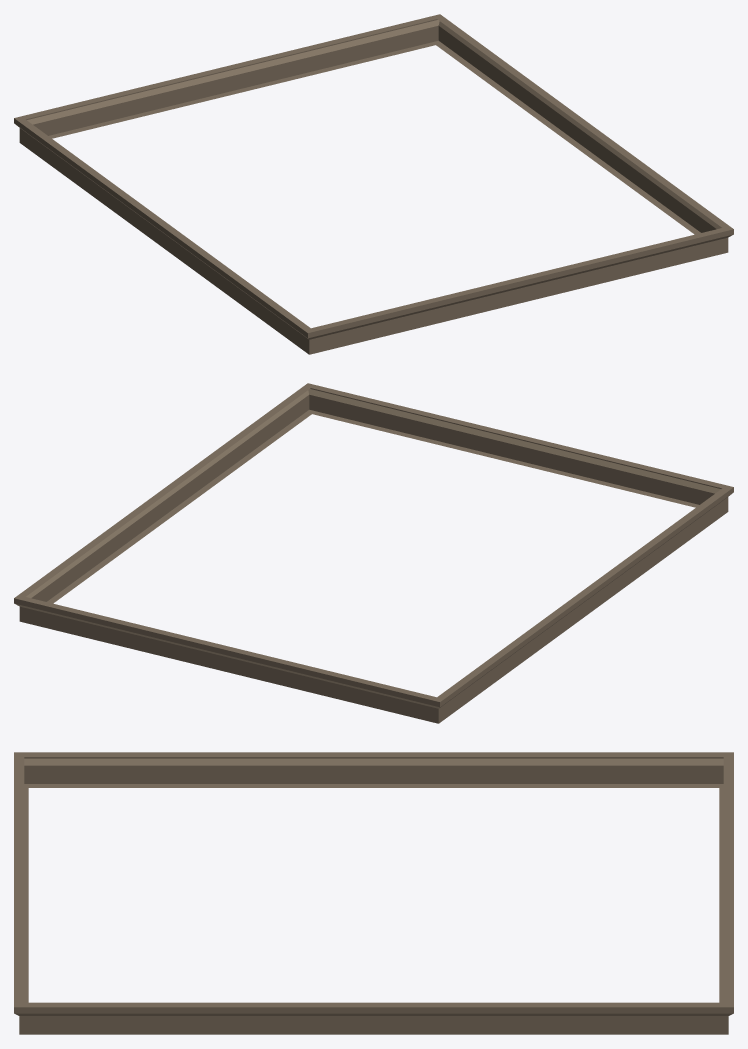
Rendered from SM_Bldg_City_Apartment_T1_Cornice_03.fbx.
3 views of the same model, one above another, from view 1: azimuth 30°, elevation 25°; view 2: azimuth 150°, elevation 25°; view 3: azimuth 270°, elevation 25° (orthographic). The views are drawn at different scales.
Visible parts, largest first — view 1: SM_Bldg_City_Apartment_T1_Cornice_03; view 2: SM_Bldg_City_Apartment_T1_Cornice_03; view 3: SM_Bldg_City_Apartment_T1_Cornice_03.
Part boxes in pixels (left/top/right/bottom): SM_Bldg_City_Apartment_T1_Cornice_03: left=14, top=14, right=733, bottom=354; SM_Bldg_City_Apartment_T1_Cornice_03: left=14, top=383, right=733, bottom=723; SM_Bldg_City_Apartment_T1_Cornice_03: left=14, top=752, right=733, bottom=1034.
Bounding box in the file's own units: 516 × 27.89 × 617.
